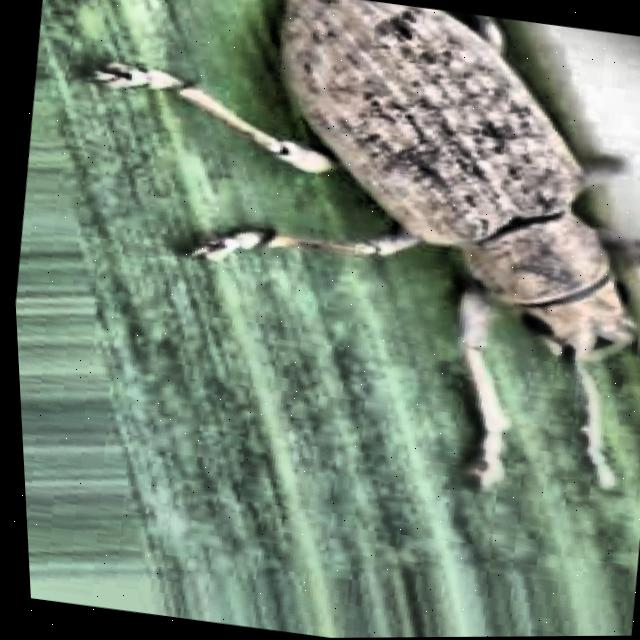Stink bug: (119, 0, 640, 450)
